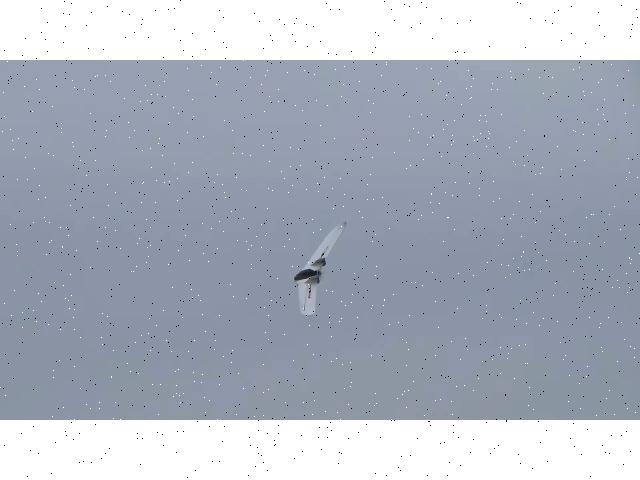Anti-Drone: (296, 223, 344, 316)
